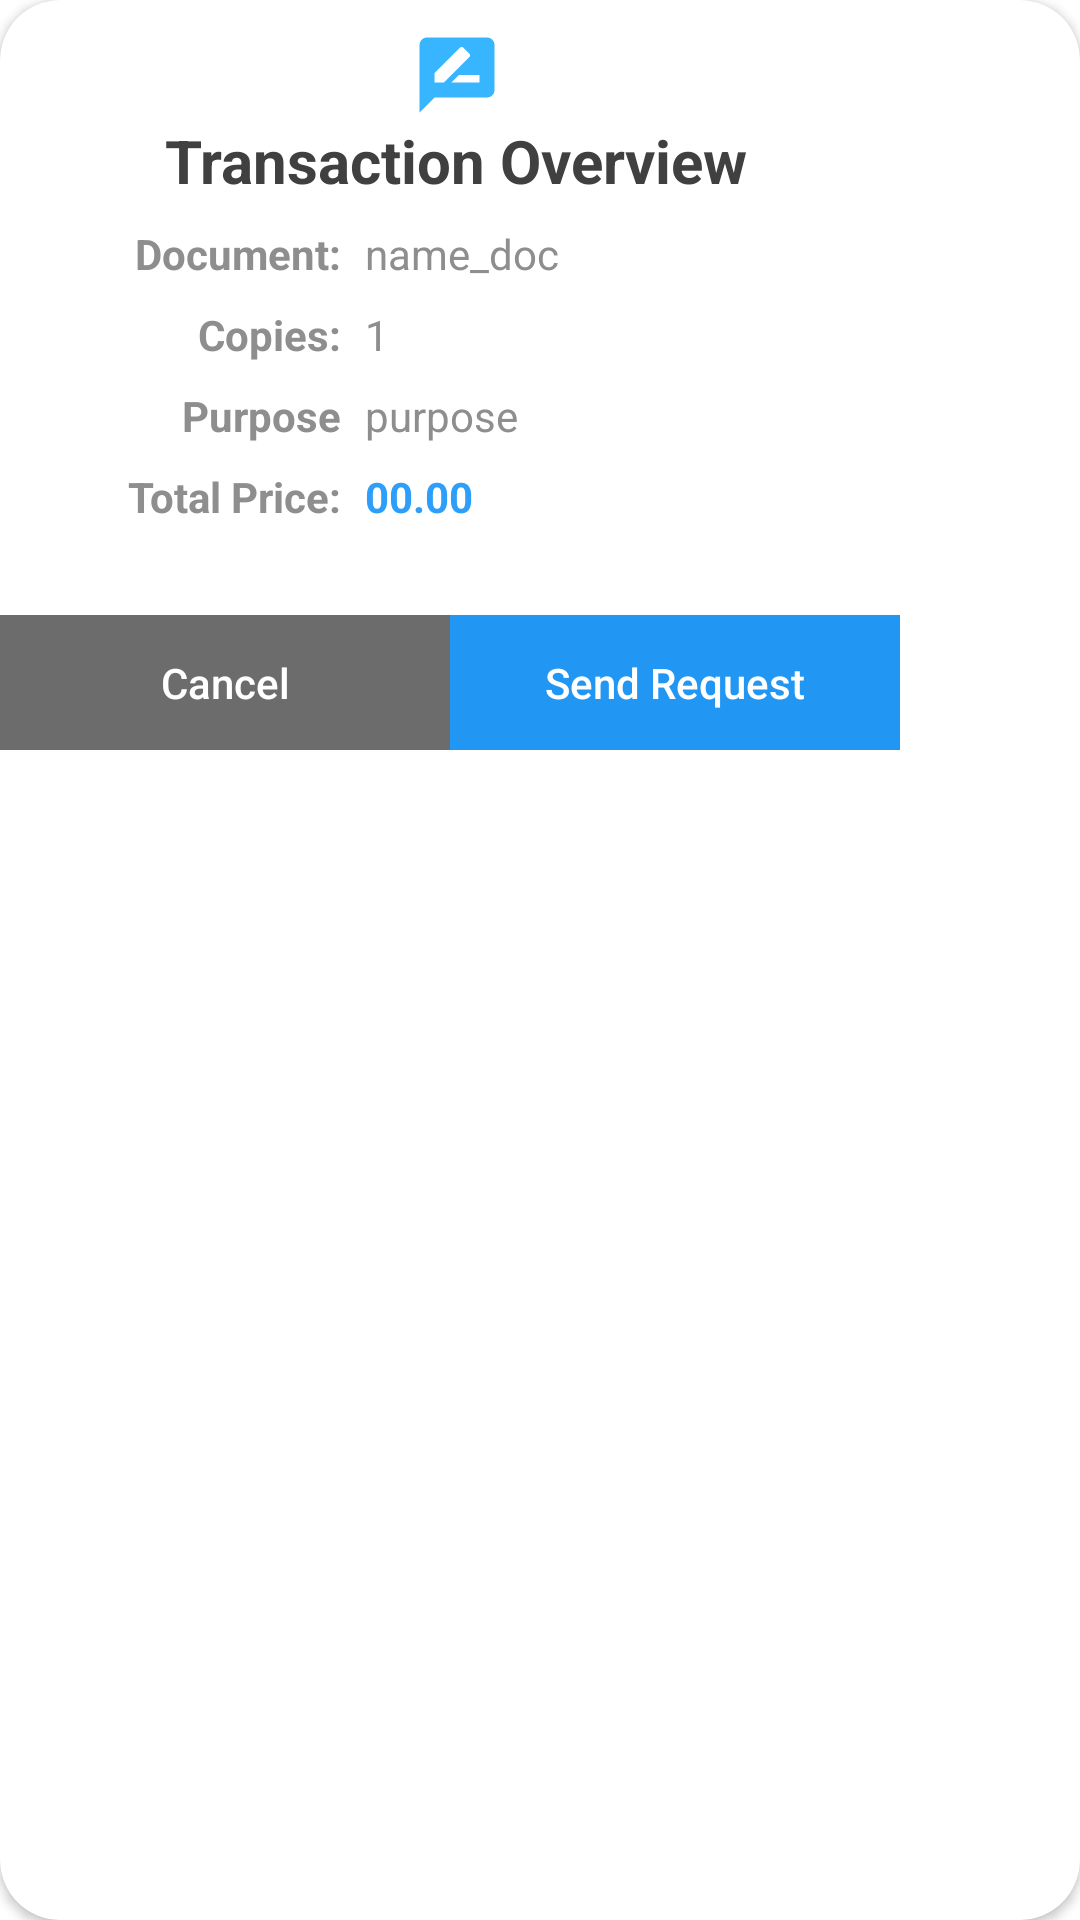

Screen size 1080w x 1920h. Icon name, then its box in pixels as (x1, y1, x2, y2):
rate review: (419, 37, 495, 113)
